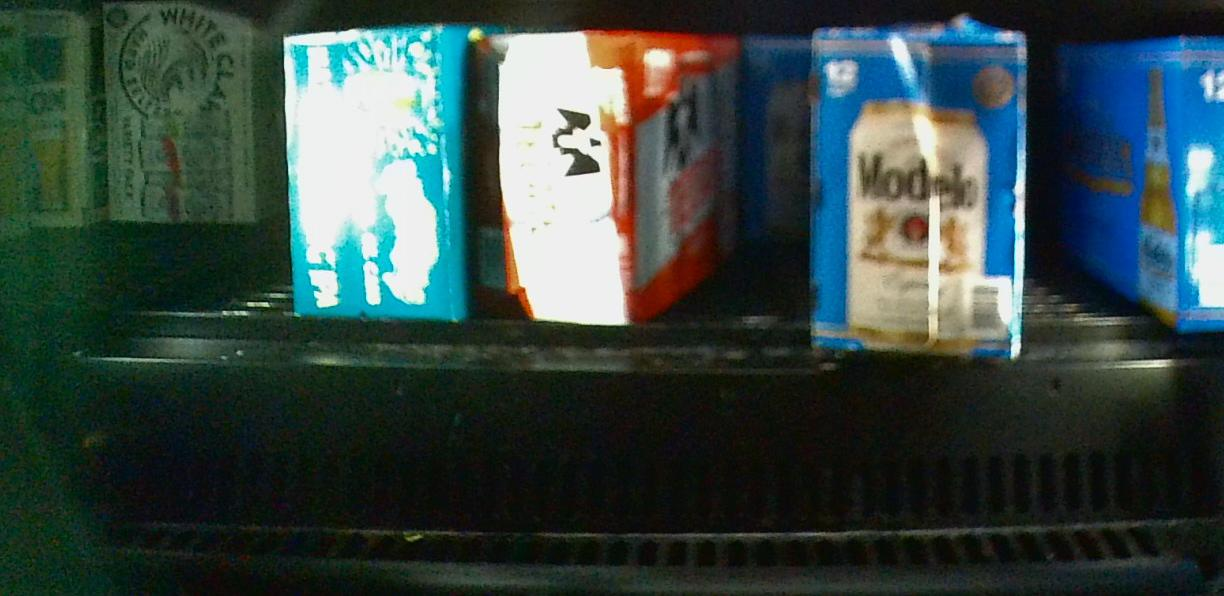bottle: (473, 30, 735, 318), (808, 28, 1023, 356), (283, 30, 472, 325), (1051, 39, 1220, 330), (735, 34, 805, 244)
